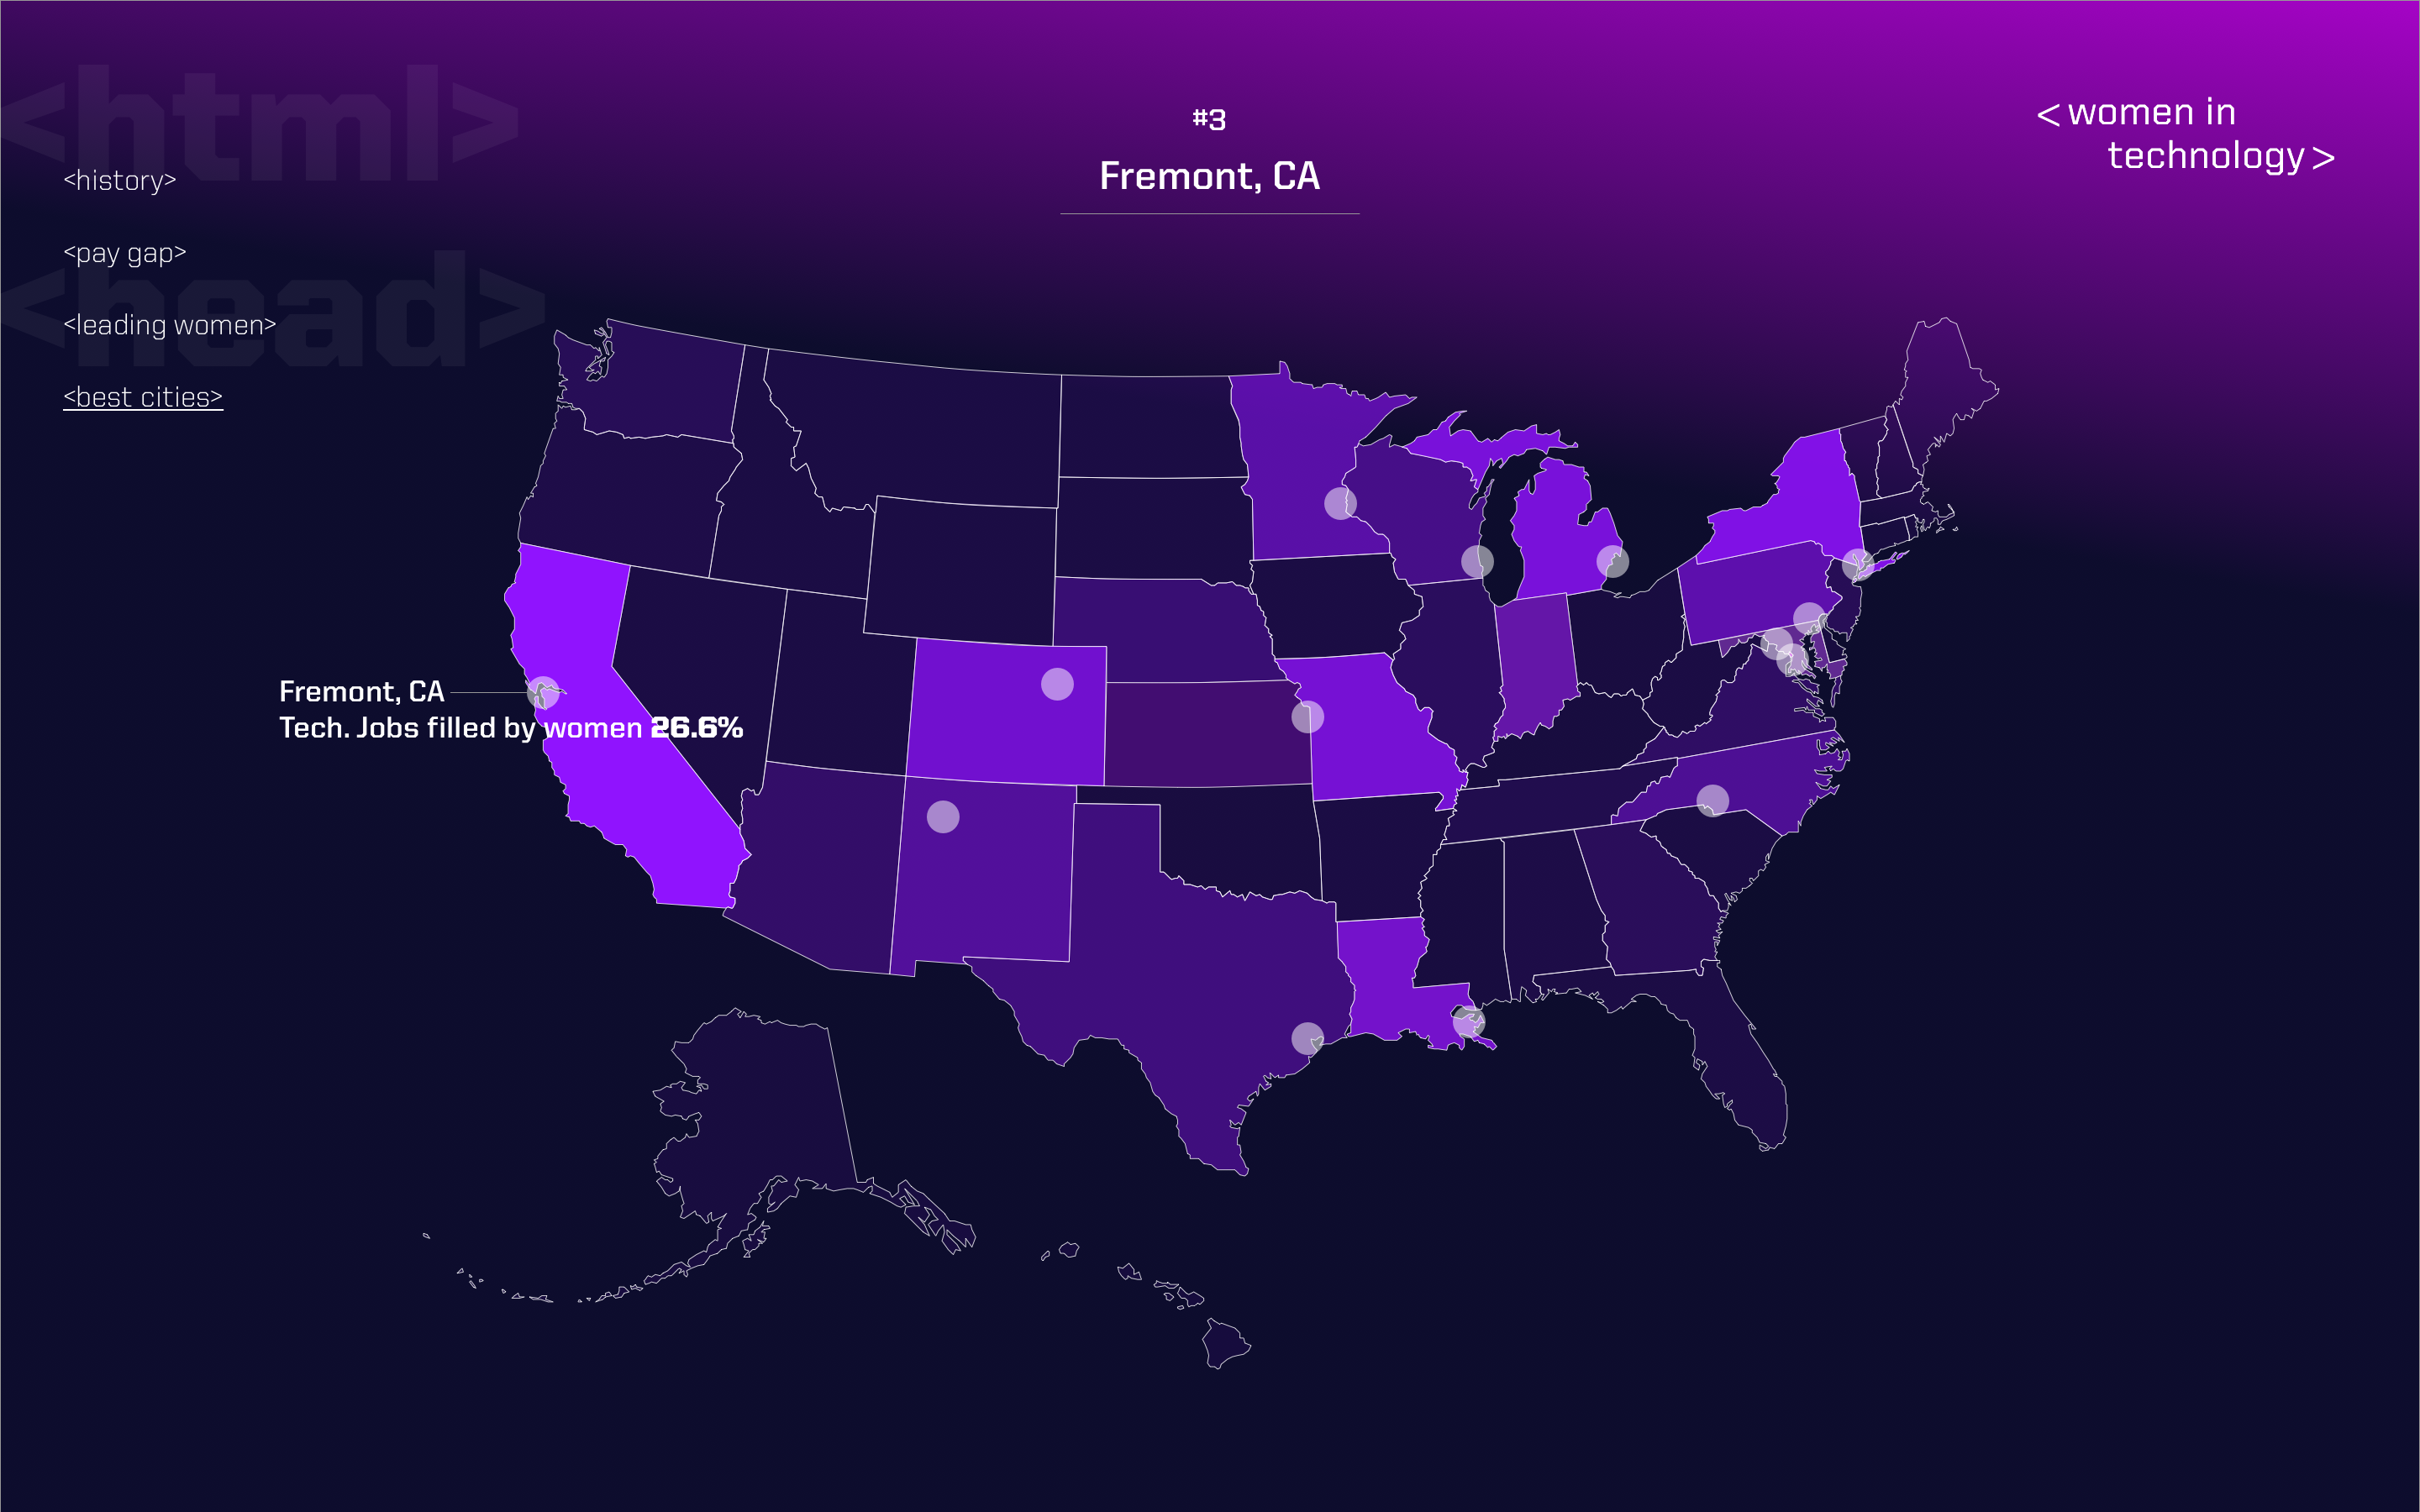

The dashboard page shown, as its layout file describes it:
{"tool":"tableau","page":{"name":"The Best Cities for Women in Tech","canvas":[1020,625],"ordinal":0},"visuals":[{"type":"web page","param":"https://smartasset.com/career/best-cities-women-tech","box":[0,0,510,625]},{"type":"worksheet","title":"The Best Cities for WIT","mark":"Automatic","box":[510,0,510,625]}]}

Visuals, with their boxes in screenshot pixels (x1, y1, x2, y2), scaled from the page's 1020x625 canvas onto the 2420x1512 screenshot:
web page: [x1=0, y1=0, x2=1210, y2=1511]
"The Best Cities for WIT" worksheet: [x1=1210, y1=0, x2=2419, y2=1511]
